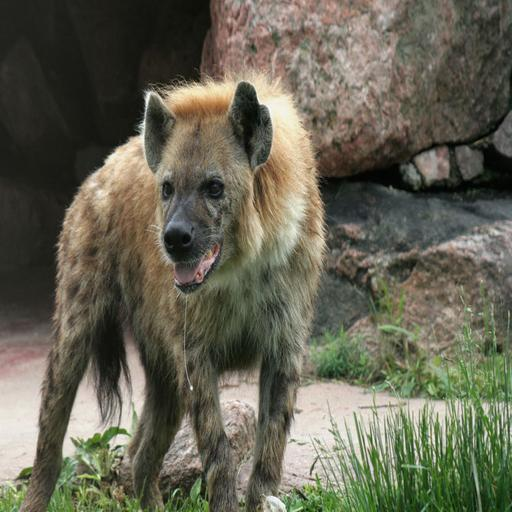Hyena: (31, 73, 340, 512)
